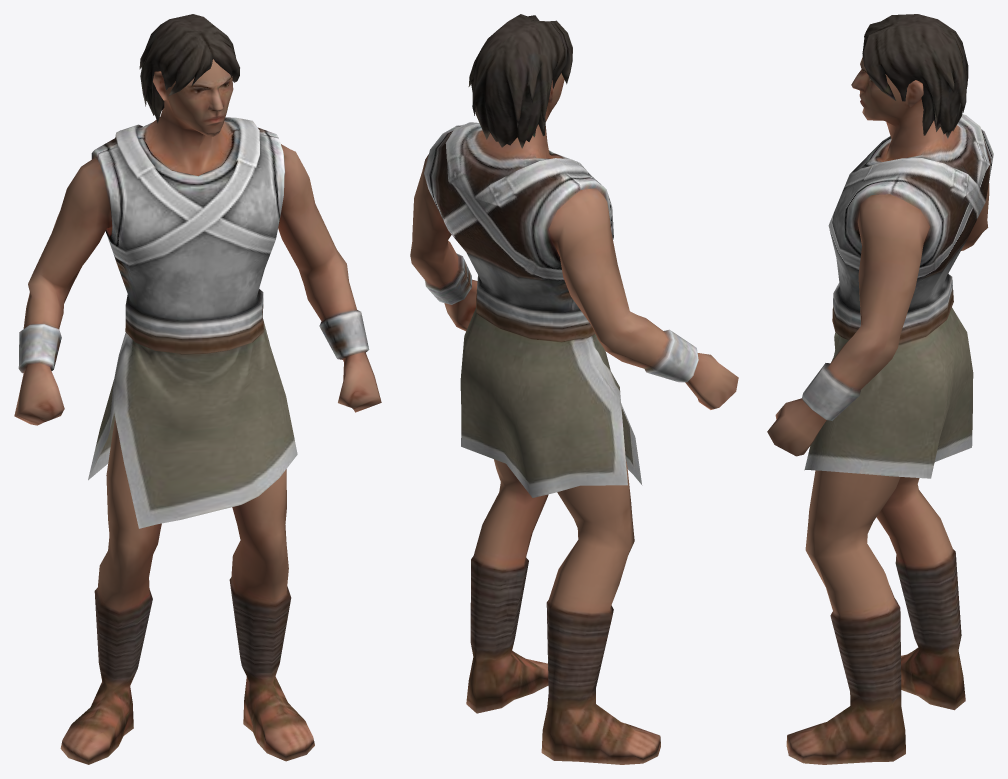
File: body-mediuminfantry.glb
The picture shows the model from 3 angles, left to right: view 1: azimuth 30°, elevation 25°; view 2: azimuth 150°, elevation 25°; view 3: azimuth 270°, elevation 25°; orthographic projection.
Size of the model in its own units: 0.9933 by 2.05 by 0.5934.
1 material, 1 textured.
